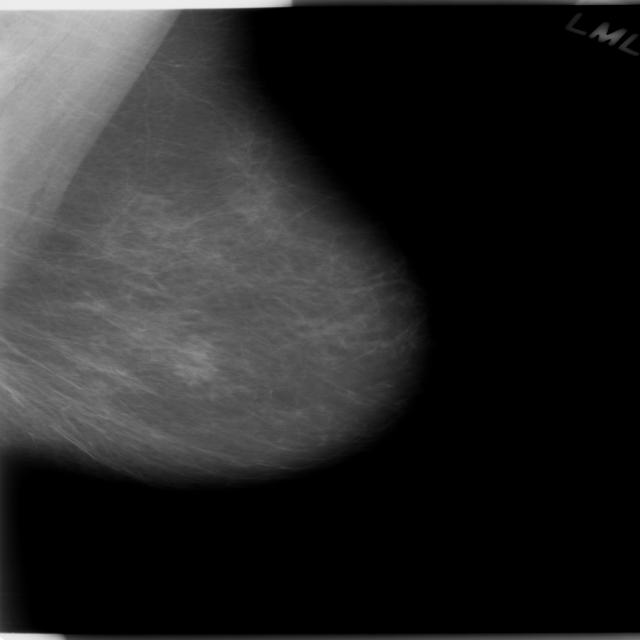normal: (0, 9, 415, 487)
